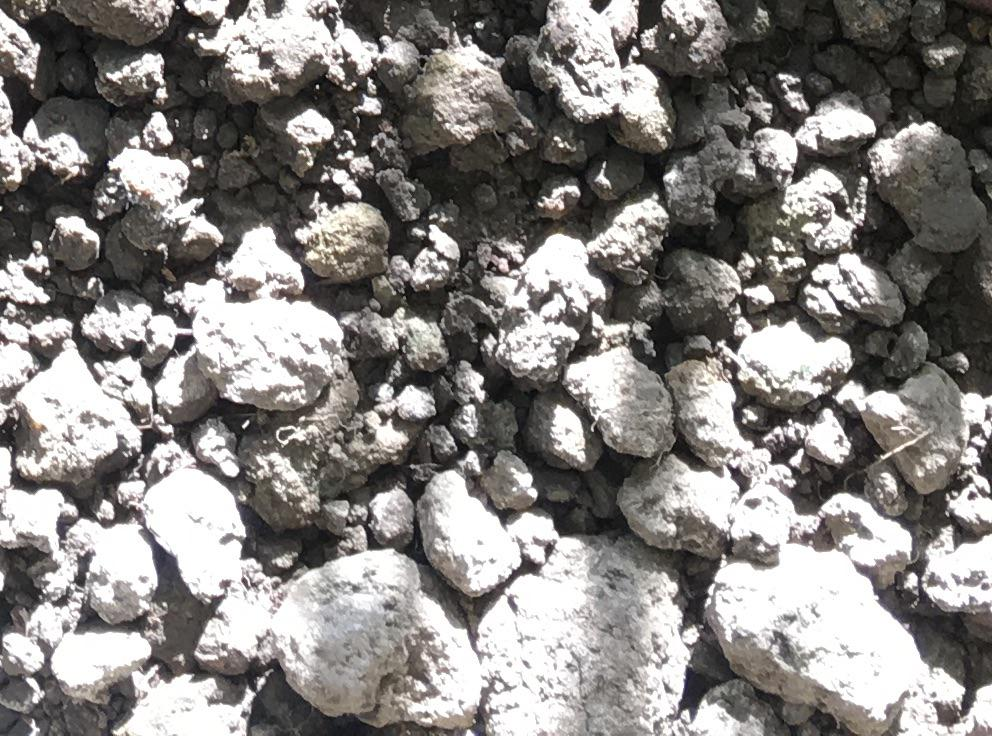block: (477, 526, 690, 736), (705, 544, 935, 732), (268, 550, 481, 732), (618, 450, 794, 566), (191, 299, 345, 413), (865, 119, 987, 256), (563, 346, 677, 458), (527, 4, 632, 124)
